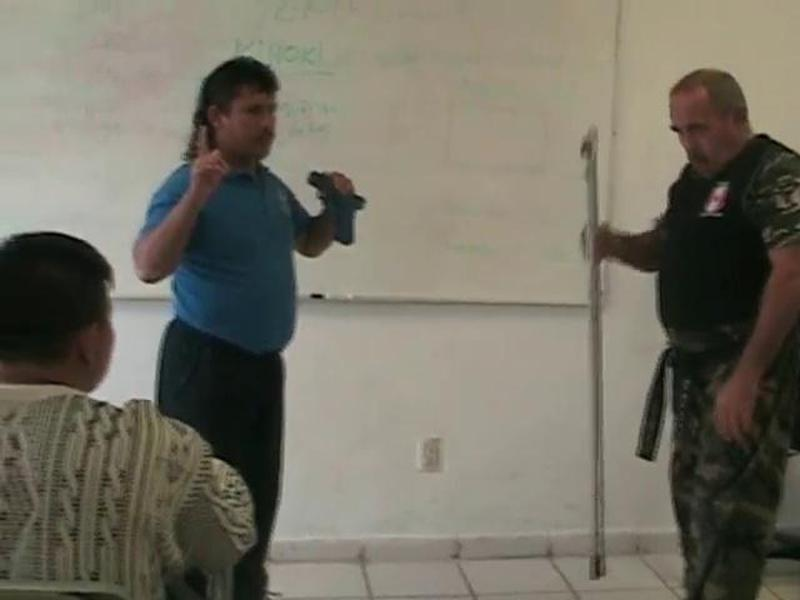Pistola: (299, 163, 378, 268)
